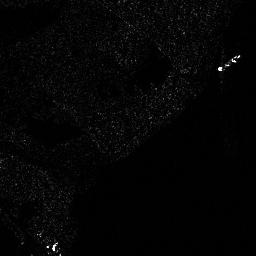ship: (216, 54, 242, 71)
